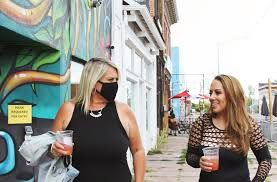no-mask: (203, 73, 244, 123)
with-mask: (86, 62, 124, 102)
